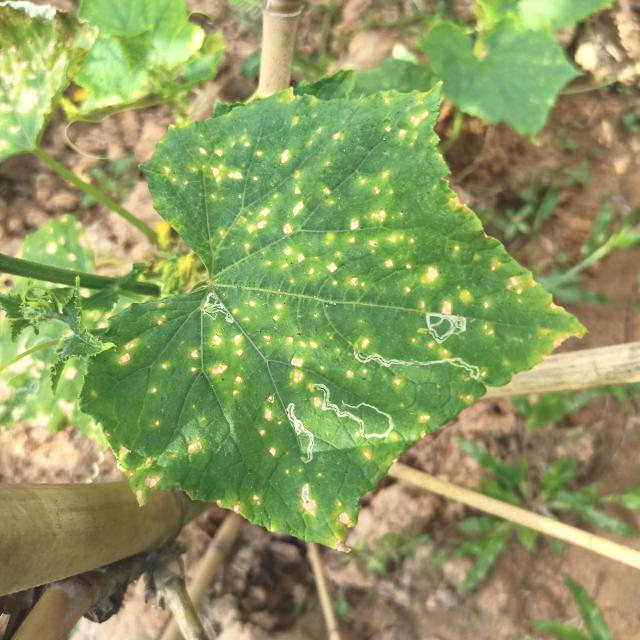disease_cucumber: (160, 112, 558, 323), (235, 296, 332, 388), (152, 331, 246, 418), (112, 440, 207, 502), (296, 484, 358, 557), (258, 394, 282, 465), (214, 491, 265, 518), (344, 368, 405, 388), (399, 403, 430, 440), (411, 338, 450, 360), (113, 338, 136, 371)
